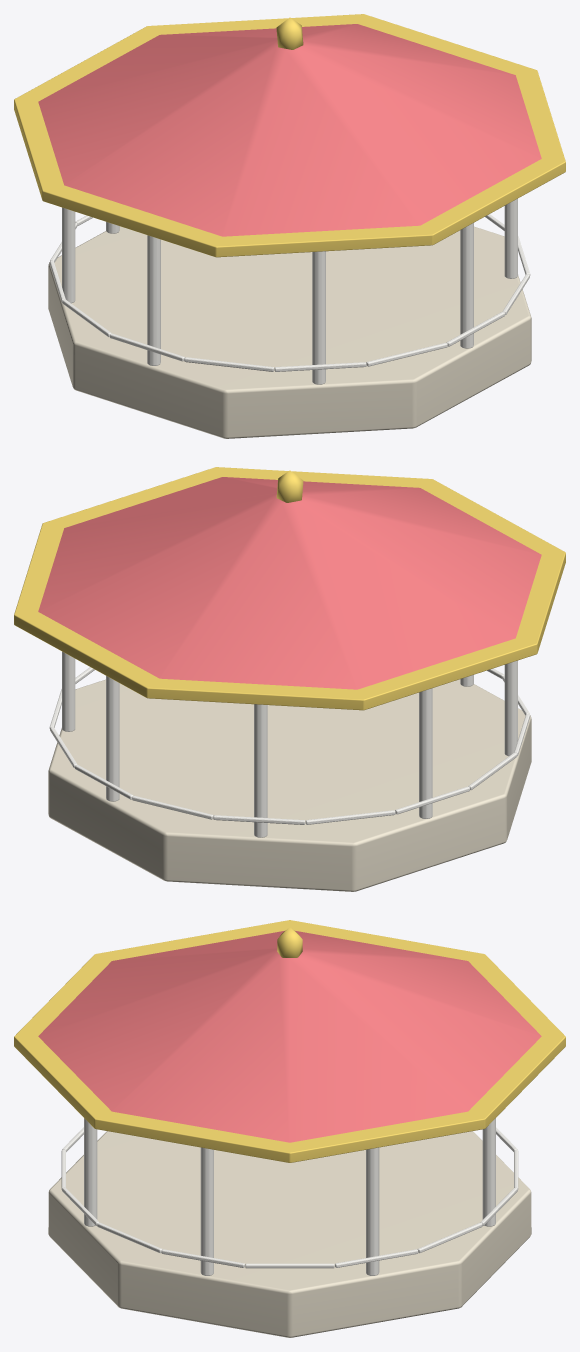
The model's file is bandstand.fbx.
The picture shows the model from 3 angles, top to bottom: view 1: azimuth 30°, elevation 25°; view 2: azimuth 150°, elevation 25°; view 3: azimuth 270°, elevation 25°; orthographic projection. The views are drawn at different scales.
Visible parts, largest first — view 1: Visual; view 2: Visual; view 3: Visual.
Boxes of the visible parts, x1,y1,x2,y2 form: Visual: (14,14,565,438); Visual: (14,467,565,891); Visual: (14,920,565,1337).
Size of what is drawn, in the model's own units: 1049 by 650 by 1049.
